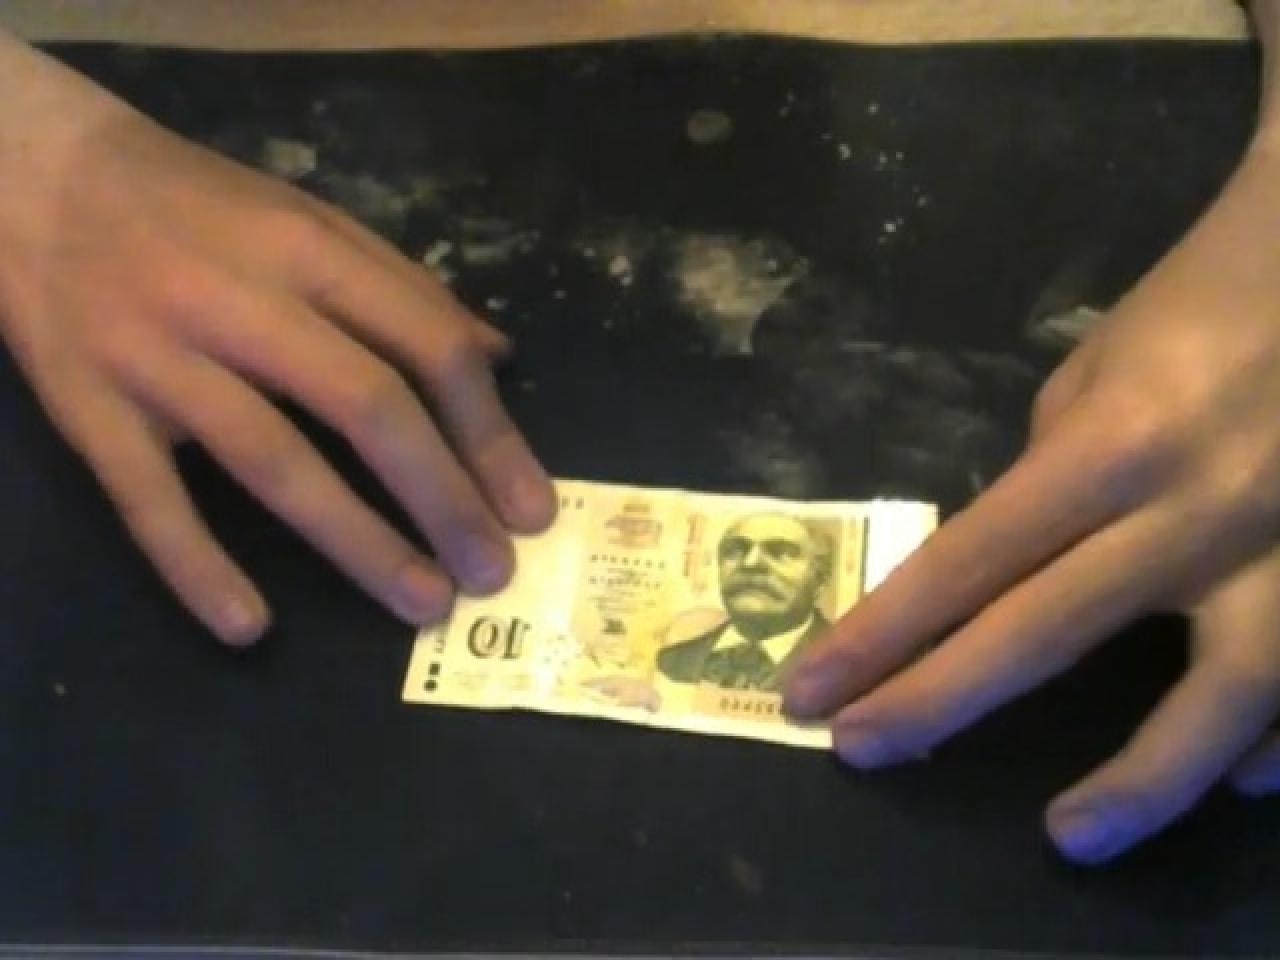10leva: (402, 480, 938, 754)
